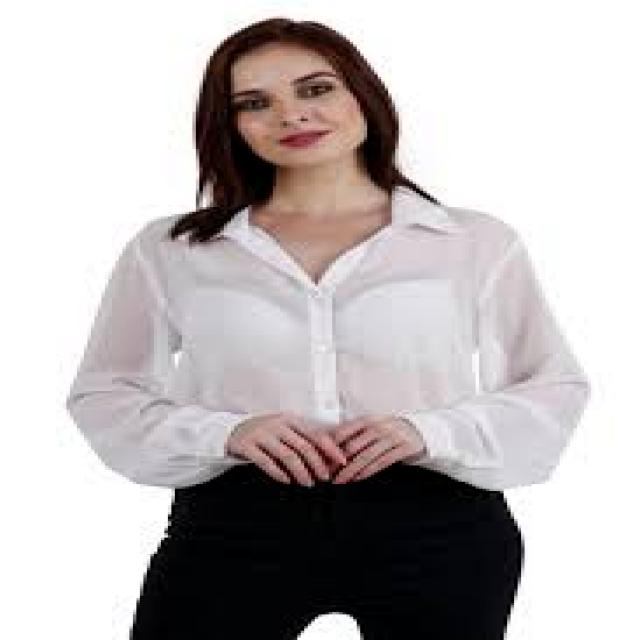face: (231, 42, 367, 167)
lower-wear: (130, 464, 524, 639)
top-wear: (67, 187, 591, 491)
